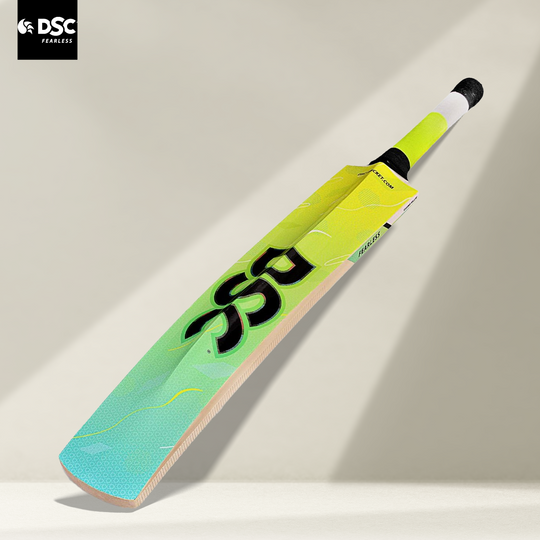bottom left: (44, 440, 74, 471)
bottom right: (113, 481, 158, 521)
top left: (331, 155, 362, 180)
top right: (400, 184, 437, 209)
